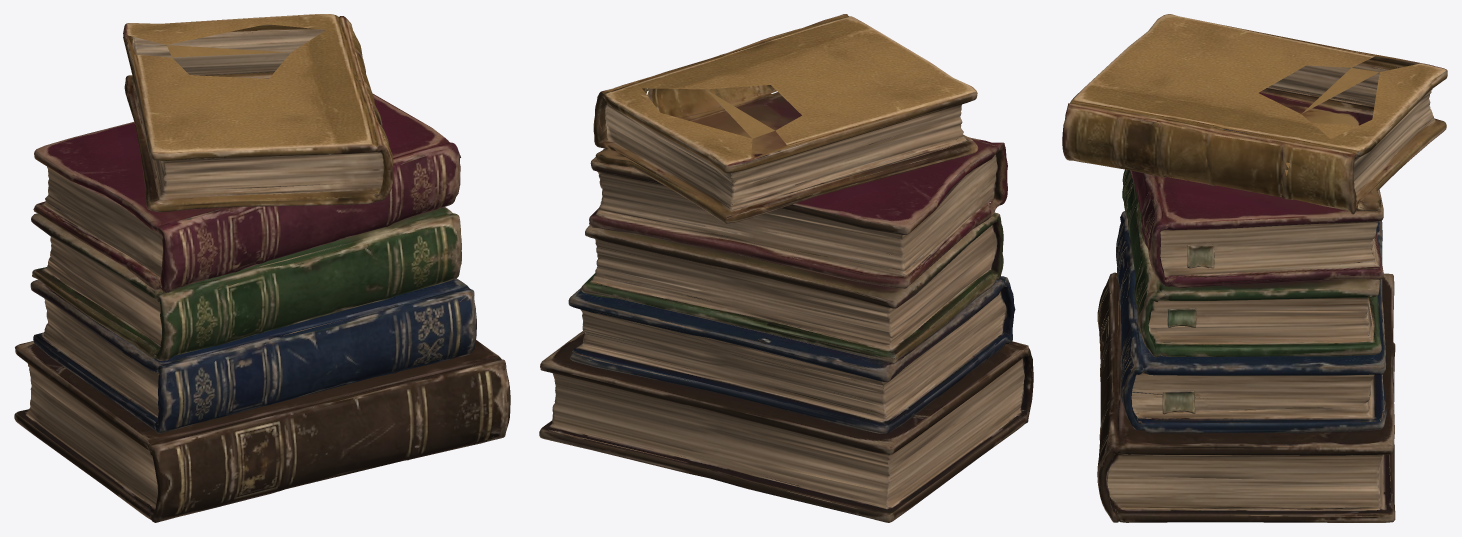
Rendered from antique_books.glb.
3 views of the same model, side by side, from view 1: azimuth 30°, elevation 25°; view 2: azimuth 150°, elevation 25°; view 3: azimuth 270°, elevation 25° (orthographic).
Bounding box in the file's own units: 0.9531 × 0.8887 × 0.8862.
Materials: 1 (1 with a texture image).
